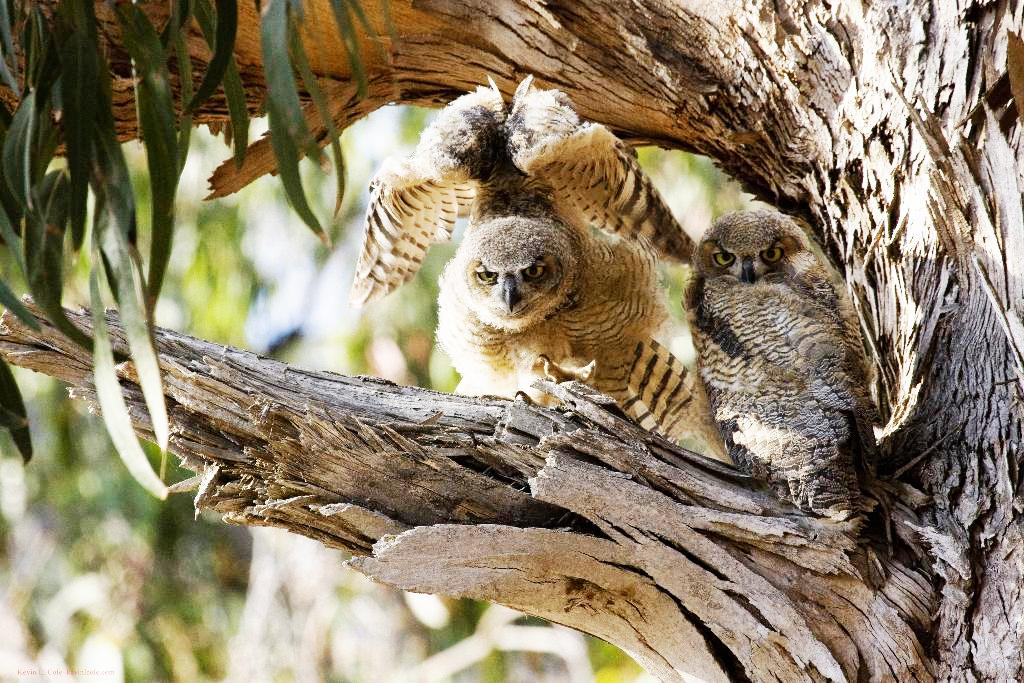Owl: (343, 66, 721, 464), (700, 209, 876, 528)
